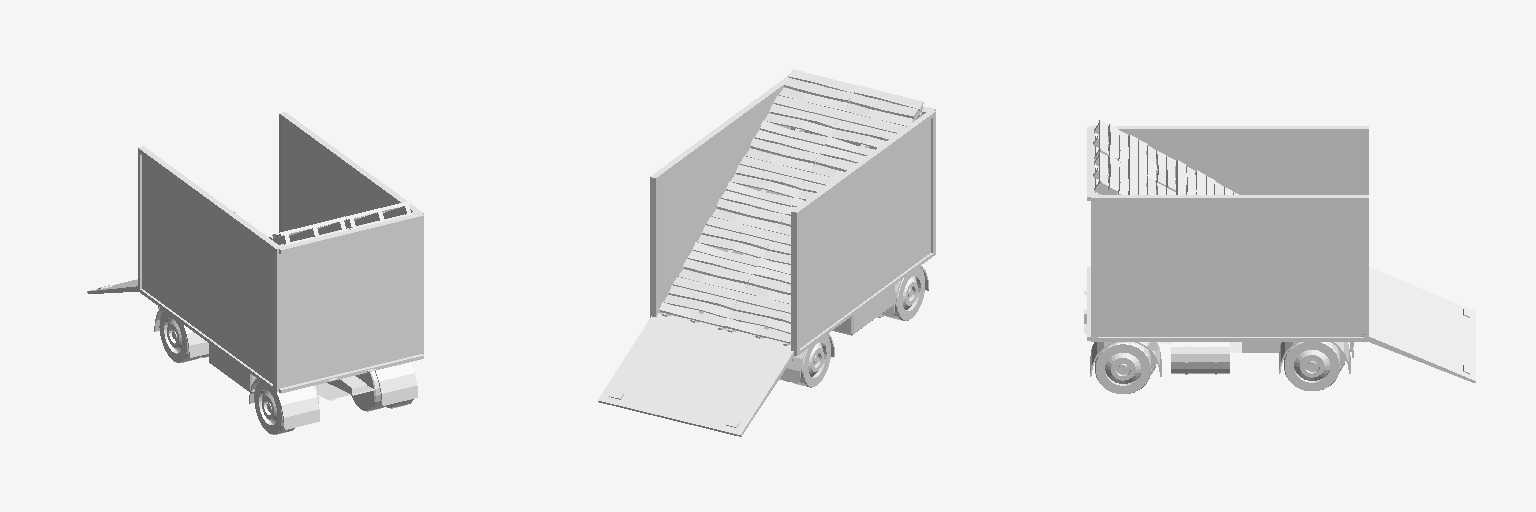
File: truck_stiege.obj
3 renders of one model, left to right at view 1: azimuth 30°, elevation 25°; view 2: azimuth 150°, elevation 25°; view 3: azimuth 270°, elevation 25°, orthographic.
Visible parts, largest first — view 1: Cube.004, 1_2.001_Mesh.012, front_wheel_2.006_Mesh.010, front_wheel_2.003_Mesh.024, SM_Prop_Pallet_01.001_Mesh.005, cabin_Mesh.022, SM_Prop_Pallet_01.002_Mesh.006, Cube_Mesh.013, front_wheel_2.007_Mesh.009, 1_2_Mesh.020; view 2: Cube.004, SM_Prop_Pallet_01.002_Mesh.006, Cube.001, SM_Prop_Pallet_01.001_Mesh.005, front_wheel_2.006_Mesh.010, front_wheel_2.003_Mesh.024, Cube_Mesh.013; view 3: Cube.004, Cube.001, SM_Prop_Pallet_01.001_Mesh.005, front_wheel_2.001_Mesh.011, front_wheel_2.002_Mesh.023, SM_Prop_Pallet_01.002_Mesh.006, fuel_reservior_Mesh.015, cabin_Mesh.022.
Boxes of the visible parts, x1,y1,x2,y2 form: Cube.004: [138, 112, 423, 393]; 1_2.001_Mesh.012: [249, 362, 417, 429]; front_wheel_2.006_Mesh.010: [254, 381, 294, 434]; front_wheel_2.003_Mesh.024: [159, 311, 200, 362]; SM_Prop_Pallet_01.001_Mesh.005: [267, 216, 346, 245]; cabin_Mesh.022: [316, 369, 375, 400]; SM_Prop_Pallet_01.002_Mesh.006: [344, 200, 411, 229]; Cube_Mesh.013: [209, 344, 256, 393]; front_wheel_2.007_Mesh.009: [351, 371, 386, 411]; 1_2_Mesh.020: [154, 308, 208, 357]; Cube.004: [650, 75, 935, 355]; SM_Prop_Pallet_01.002_Mesh.006: [659, 69, 856, 329]; Cube.001: [598, 313, 793, 436]; SM_Prop_Pallet_01.001_Mesh.005: [724, 85, 923, 345]; front_wheel_2.006_Mesh.010: [885, 267, 924, 320]; front_wheel_2.003_Mesh.024: [792, 335, 830, 387]; Cube_Mesh.013: [832, 285, 894, 335]; Cube.004: [1087, 126, 1368, 341]; Cube.001: [1362, 267, 1475, 382]; SM_Prop_Pallet_01.001_Mesh.005: [1093, 120, 1238, 194]; front_wheel_2.001_Mesh.011: [1095, 342, 1151, 393]; front_wheel_2.002_Mesh.023: [1284, 342, 1340, 390]; SM_Prop_Pallet_01.002_Mesh.006: [1093, 152, 1182, 194]; fuel_reservior_Mesh.015: [1171, 342, 1229, 374]; cabin_Mesh.022: [1084, 291, 1281, 352].
Bounding box in the file's own units: 0.2048 × 0.2803 × 0.472.